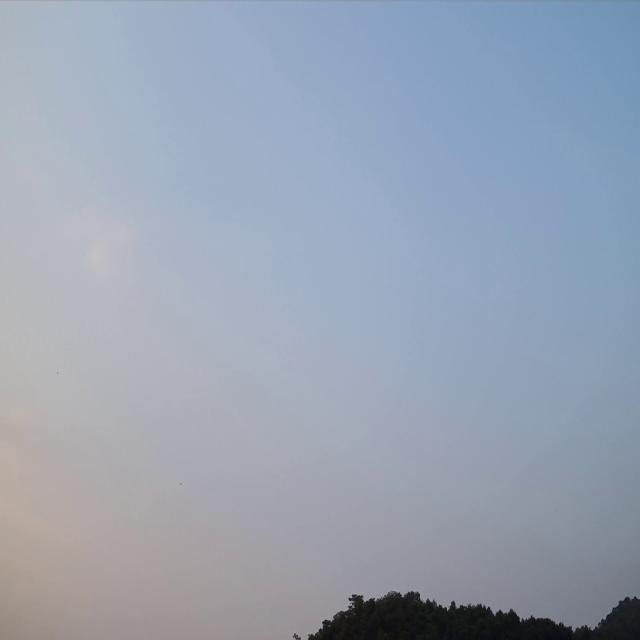UAV: (180, 482, 182, 486)
